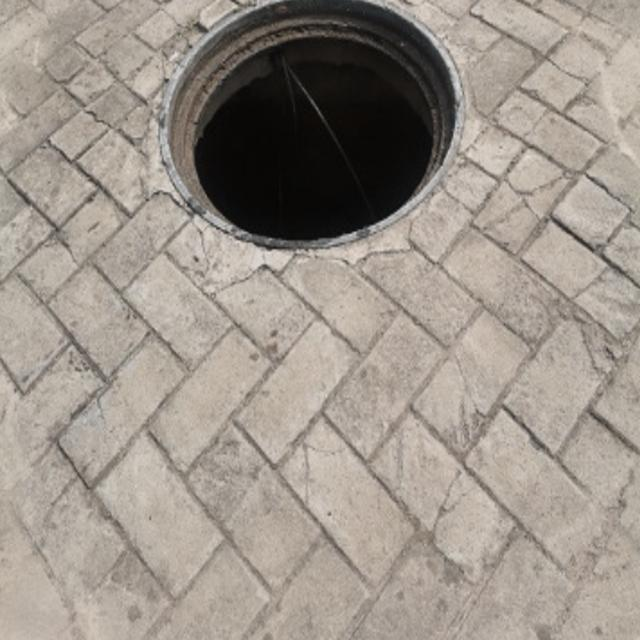lose: (158, 0, 465, 253)
